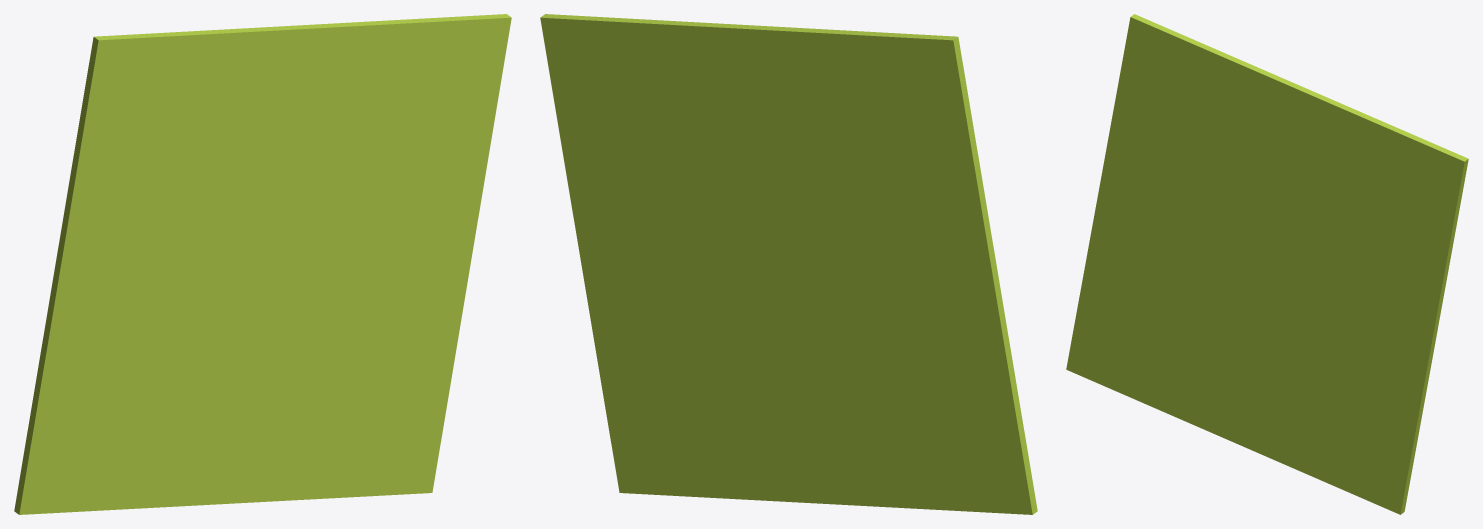
The picture shows the model from 3 angles, left to right: view 1: azimuth 30°, elevation 25°; view 2: azimuth 150°, elevation 25°; view 3: azimuth 330°, elevation 25°; orthographic projection. The views are drawn at different scales.
Visible parts, largest first — view 1: osm-way27917482-F1; view 2: osm-way27917482-F1; view 3: osm-way27917482-F1.
Part boxes in pixels (x1,y1,x2,y2): osm-way27917482-F1: [14, 14, 511, 514]; osm-way27917482-F1: [540, 14, 1037, 514]; osm-way27917482-F1: [1066, 14, 1468, 514].
Bounding box in the file's own units: 8.43 × 8.74 × 0.15.
